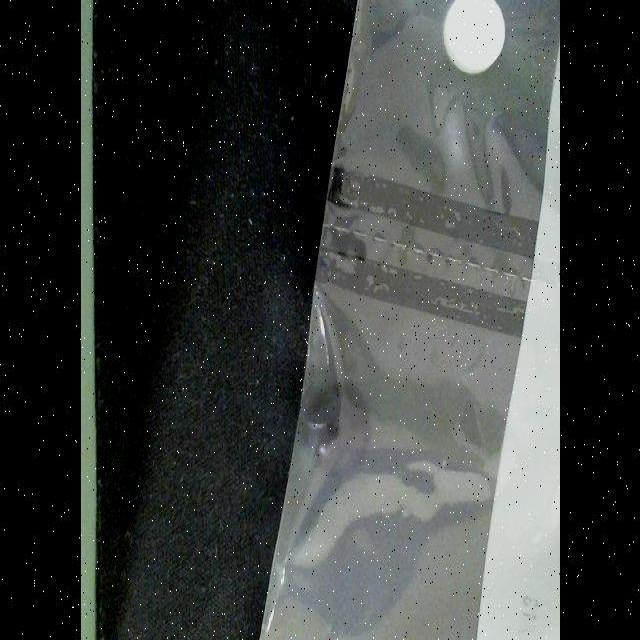pill: (441, 0, 506, 70)
